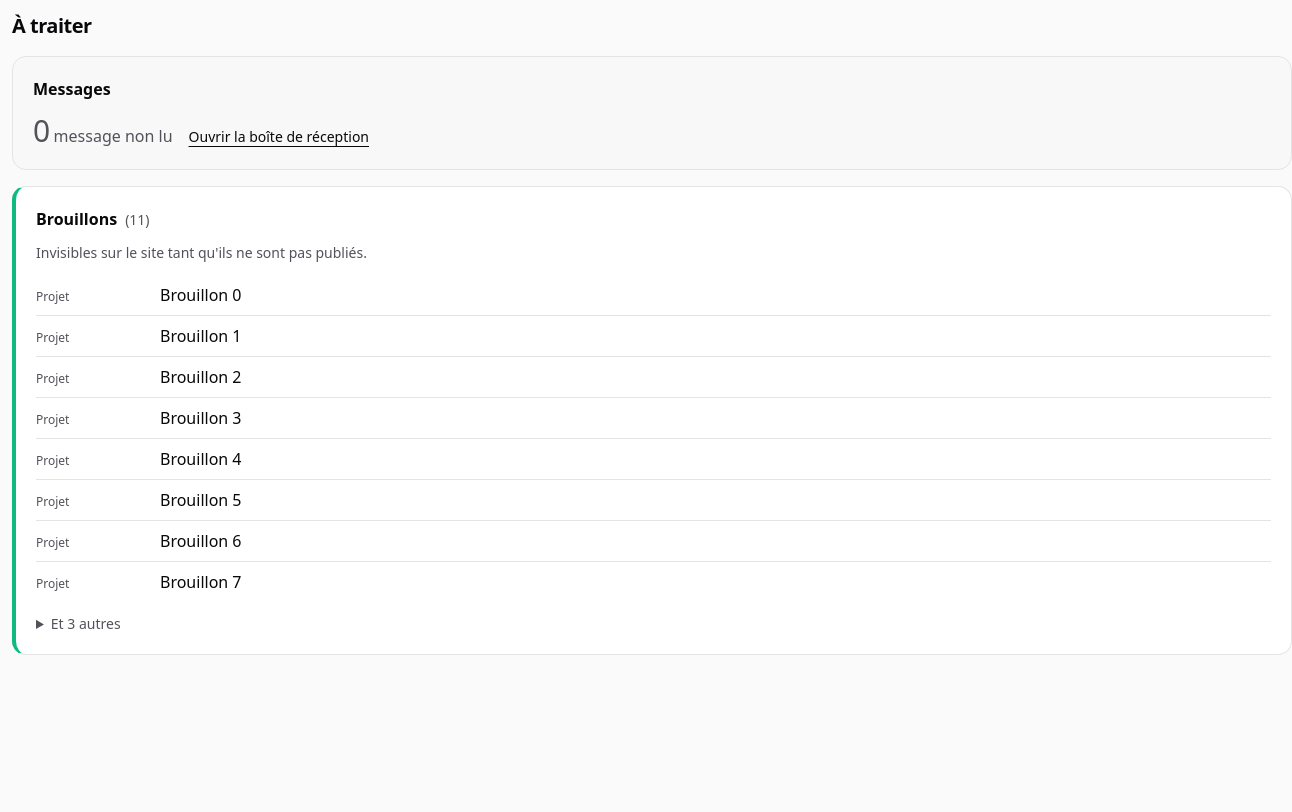
Scenario: ToDoSection › shows the first entries of a long group, the others behind a disclosure
The width and height of the screenshot is (1292, 812).
Expected: the link "Brouillon 7" is shown, [160,570,242,594]
Expected: the text "Brouillon 10" is not shown
Click the heading "Et 3 autres" at (86, 624), box [51,614,121,633]
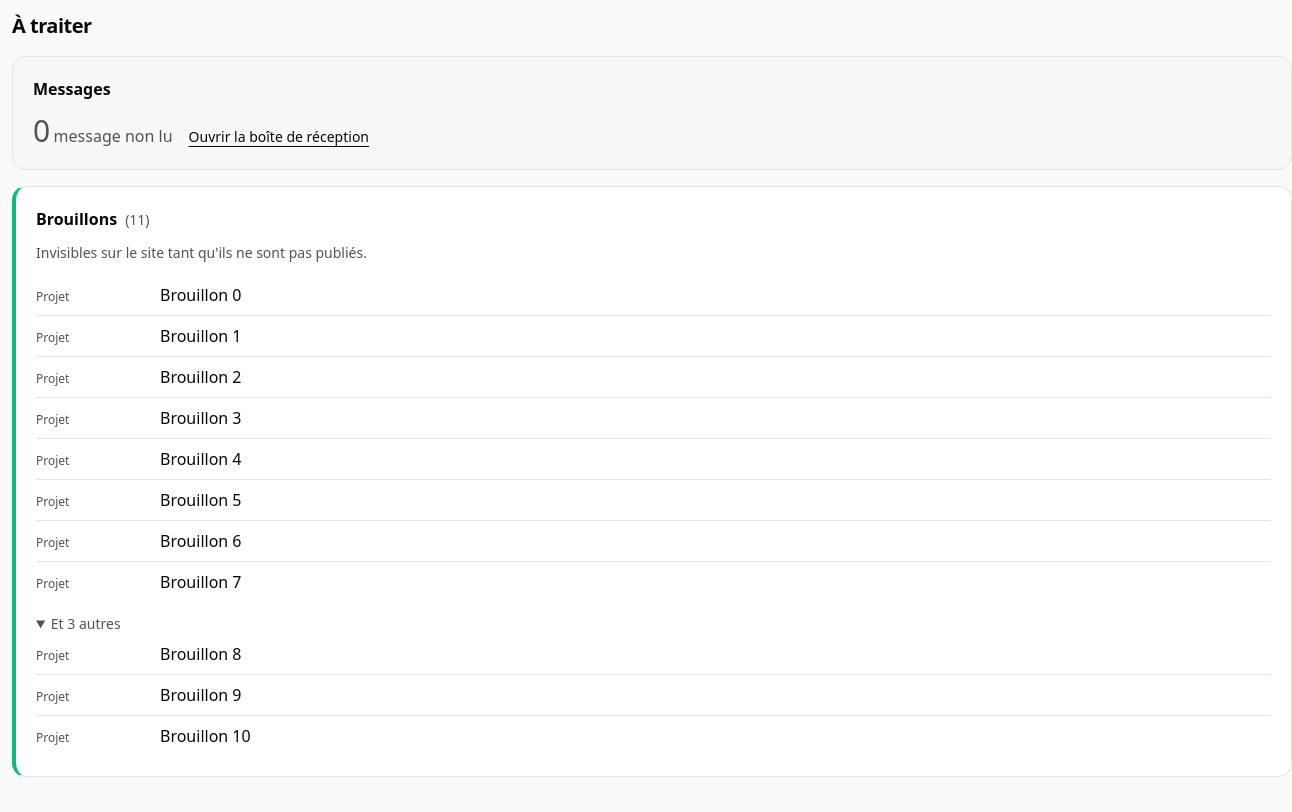
Expected: the link "Brouillon 10" is shown, [160,724,251,748]
